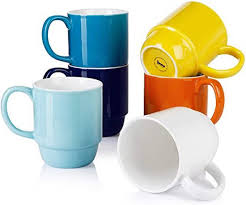cup: (1, 73, 110, 177), (38, 5, 136, 69)
